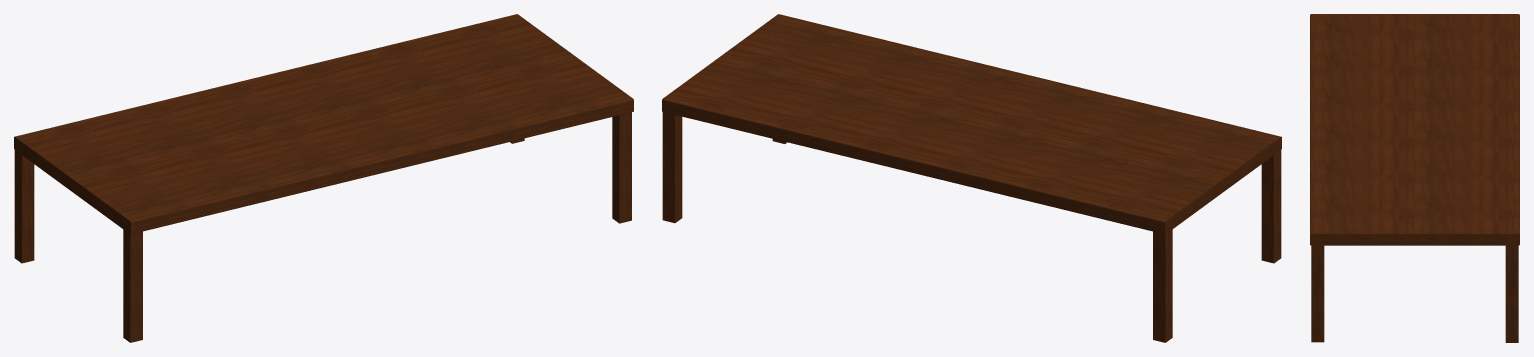
The model's file is Table.fbx.
3 renders of one model, left to right at view 1: azimuth 30°, elevation 25°; view 2: azimuth 150°, elevation 25°; view 3: azimuth 270°, elevation 25°, orthographic. The views are drawn at different scales.
Parts seen in each view (by area): view 1: polySurface1, polySurface3, polySurface2, polySurface5; view 2: polySurface1, polySurface4, polySurface2, polySurface3; view 3: polySurface1, polySurface4, polySurface5.
Boxes of the visible parts, left/top/right/bottom form: polySurface1: left=14, top=14, right=633, bottom=234; polySurface3: left=14, top=150, right=34, bottom=263; polySurface2: left=123, top=229, right=142, bottom=342; polySurface5: left=612, top=112, right=631, bottom=223; polySurface1: left=662, top=14, right=1281, bottom=234; polySurface4: left=662, top=112, right=682, bottom=223; polySurface2: left=1261, top=150, right=1281, bottom=263; polySurface3: left=1153, top=229, right=1172, bottom=342; polySurface1: left=1310, top=14, right=1519, bottom=245; polySurface4: left=1505, top=245, right=1518, bottom=342; polySurface5: left=1311, top=245, right=1324, bottom=342.
Bounding box in the file's own units: 402 × 92.73 × 162.
Materials: 1 (1 with a texture image).
